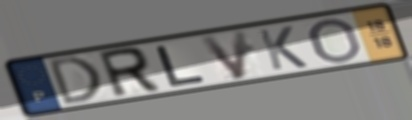D: (46, 54, 105, 108)
K: (254, 24, 311, 72)
L: (154, 43, 209, 89)
O: (308, 17, 365, 65)
R: (94, 45, 165, 101)
V: (196, 27, 250, 82)
